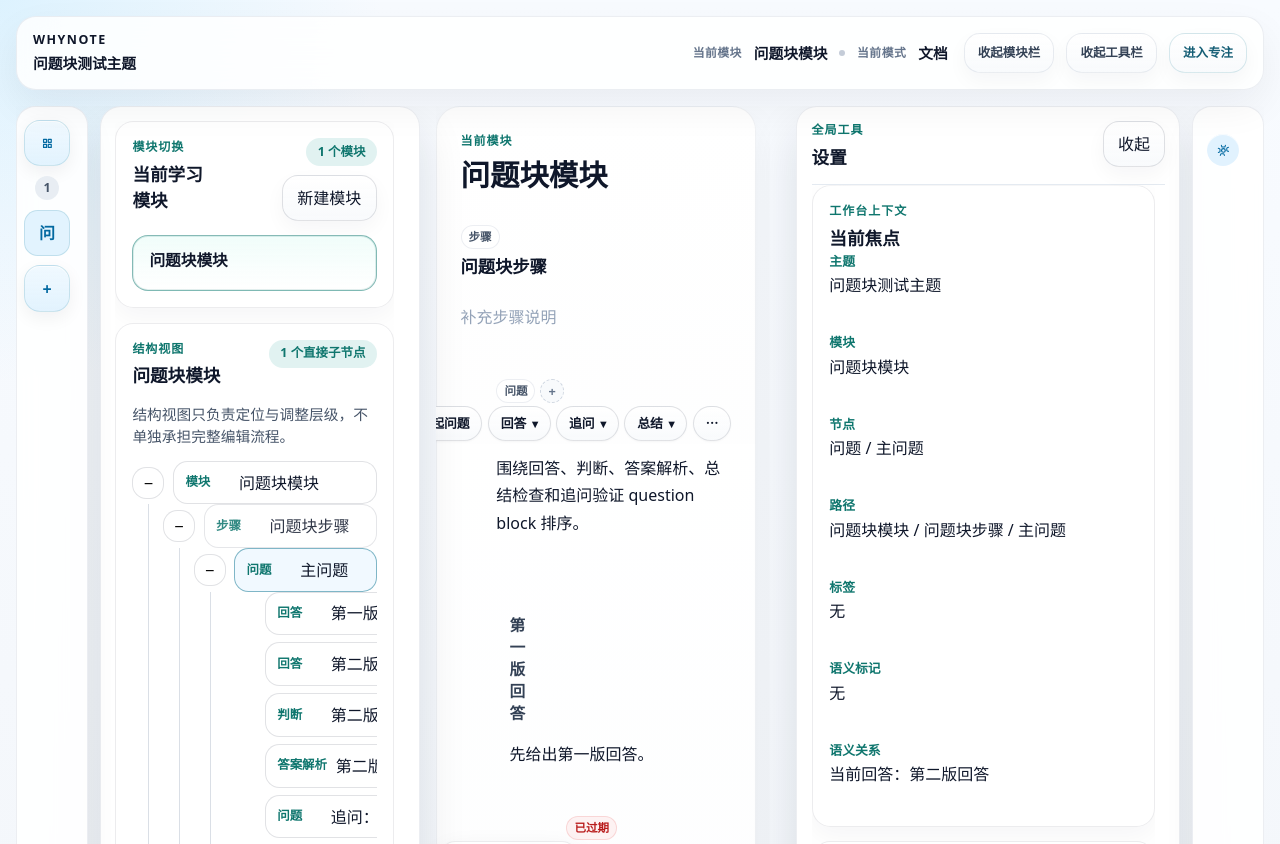
it: clicking an unselected content body enters editing without an explicit preselect and keeps node actions
What coordinates should you click on to do the following:
click the button with test id "editor-node-content-display-answer-first"
I would click on:
 (615, 755)
Its box is [504,737,726,773].
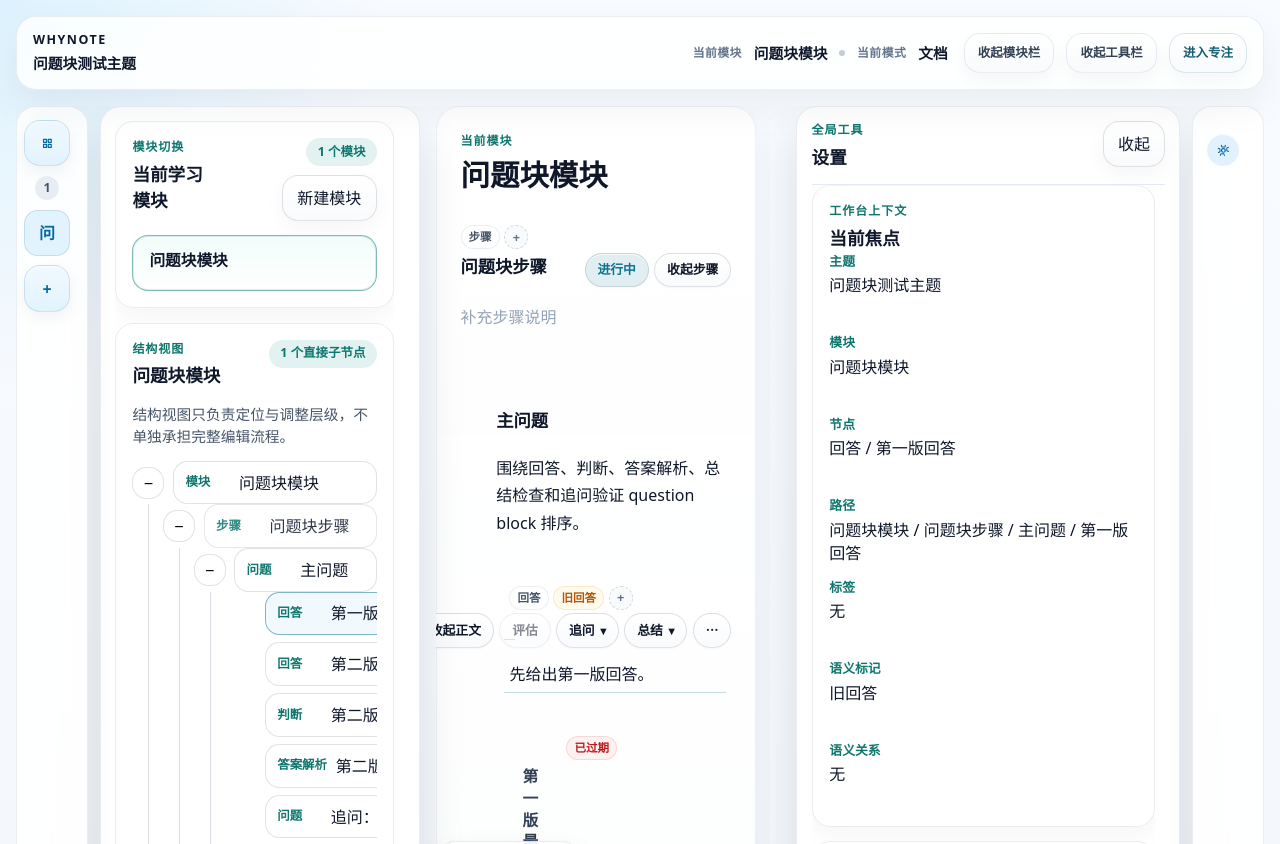
Check: the text box named "第一版回答 内容" is shown, box [504,658,726,693]
What coordinates should you click on to do the following:
click the button "追问▾"
I would click on:
 (588, 630)
Its box is [556,613,619,648].
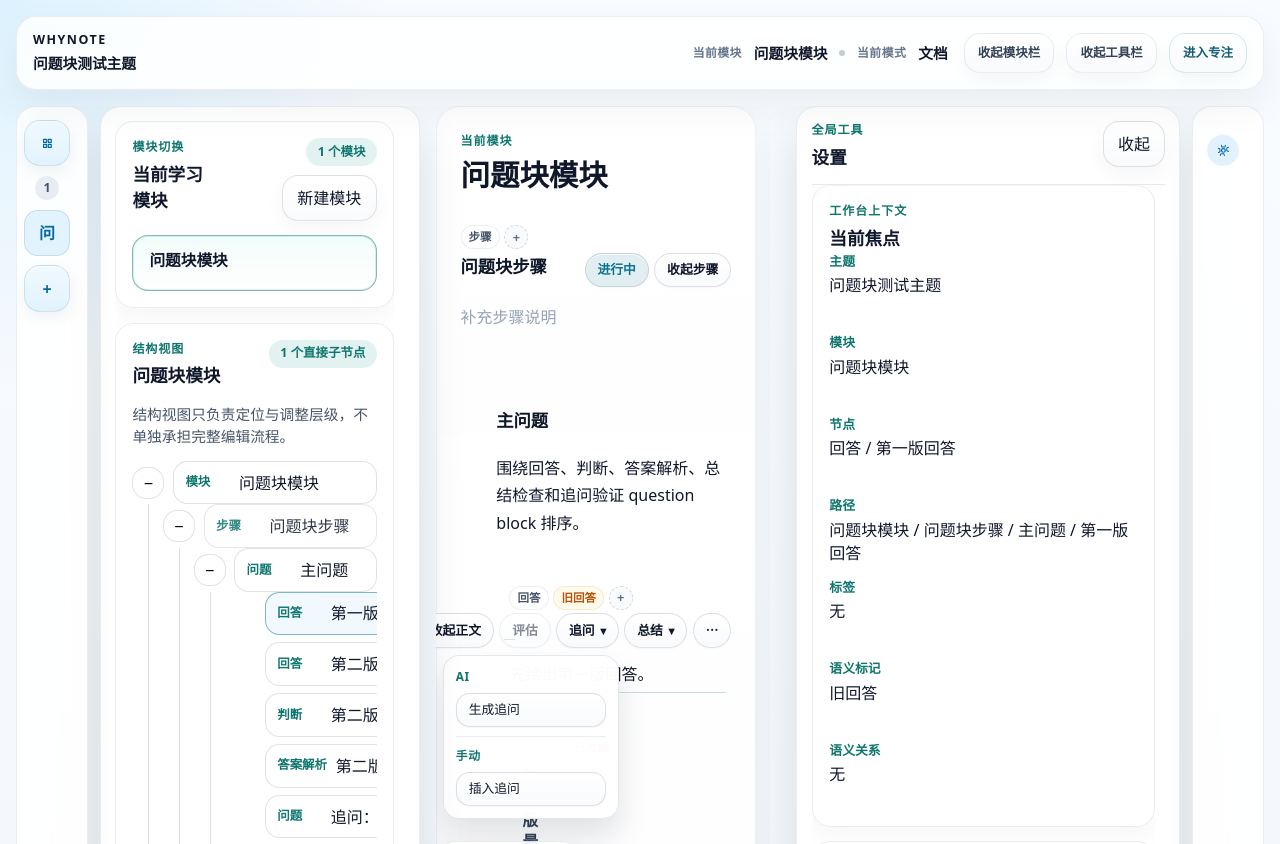
Check: the button "生成追问" is shown, box [456,693,606,727]
Check: the button "插入追问" is shown, box [456,772,606,806]
What coordinates should you click on to do the following:
click the button "⋯"
I would click on:
 (712, 630)
Its box is [693,613,731,648].
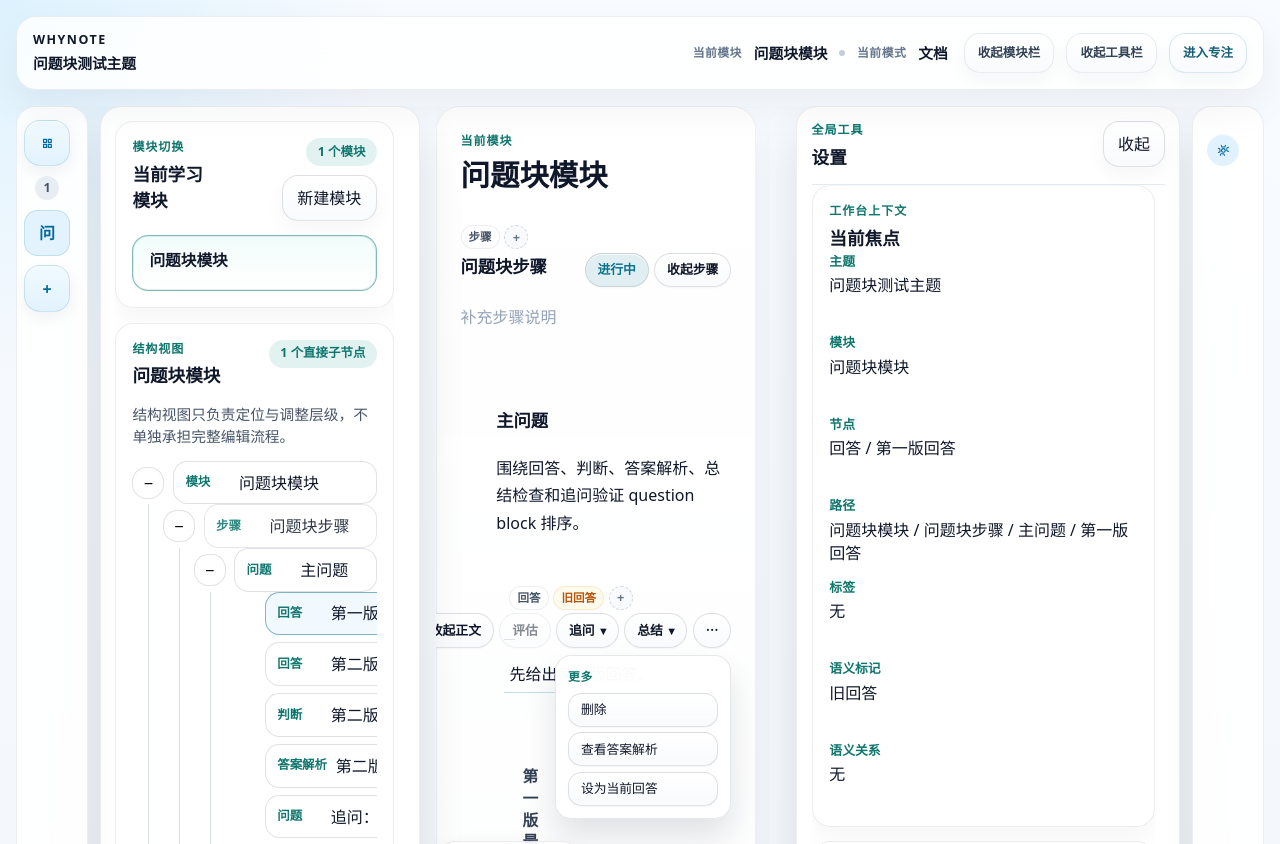
Check: the button "设为当前回答" is shown, box [568,772,718,806]
